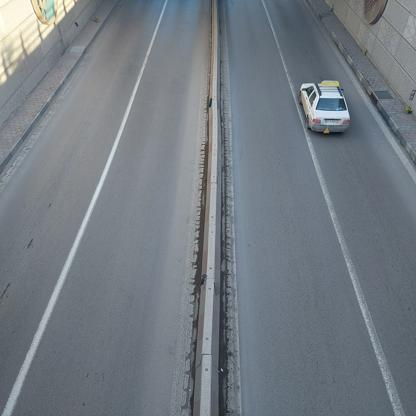Car: (292, 74, 349, 139)
